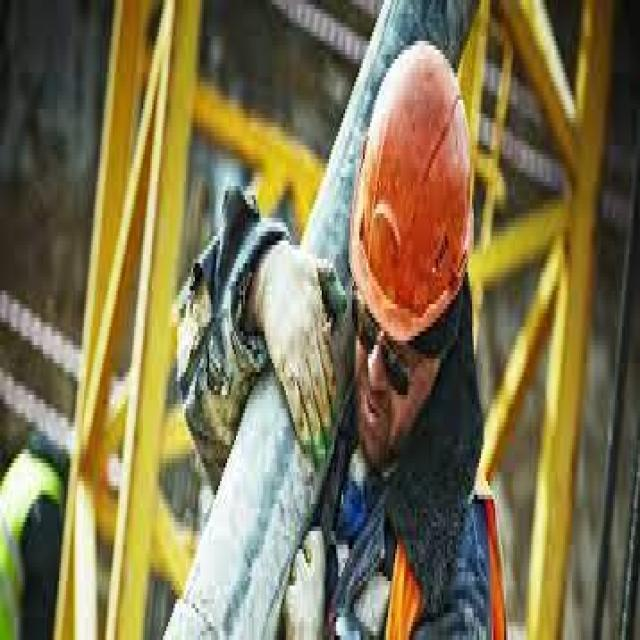safety_helmet: (348, 41, 479, 345)
